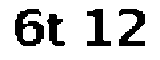1: (83, 5, 115, 50)
2: (118, 7, 151, 51)
6: (10, 6, 45, 52)
t: (46, 11, 72, 51)
